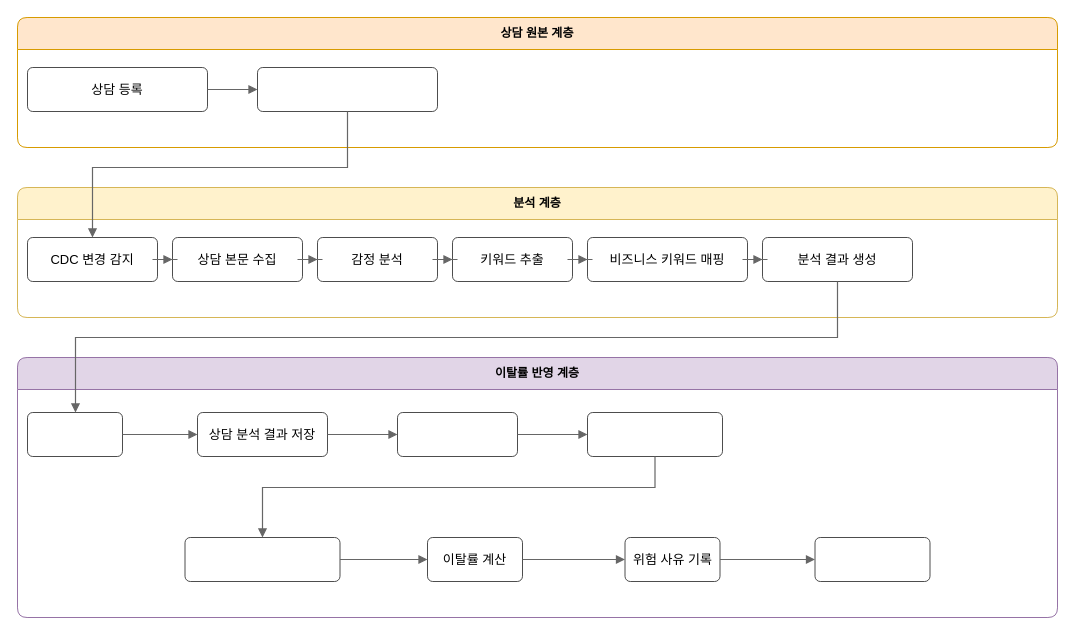
Some shapes in this 1075 by 635 pixel diagram are drawn without their labels. Each missing label, with the centre of its shape:
Admin Internal API: (74,434)
Churn Orchestration Engine: (262,559)
Feature Snapshot 갱신: (654,434)
상담 feature 계산: (457,434)
운영 DB 저장: (347,89)
최종 Snapshot 저장: (872,559)
